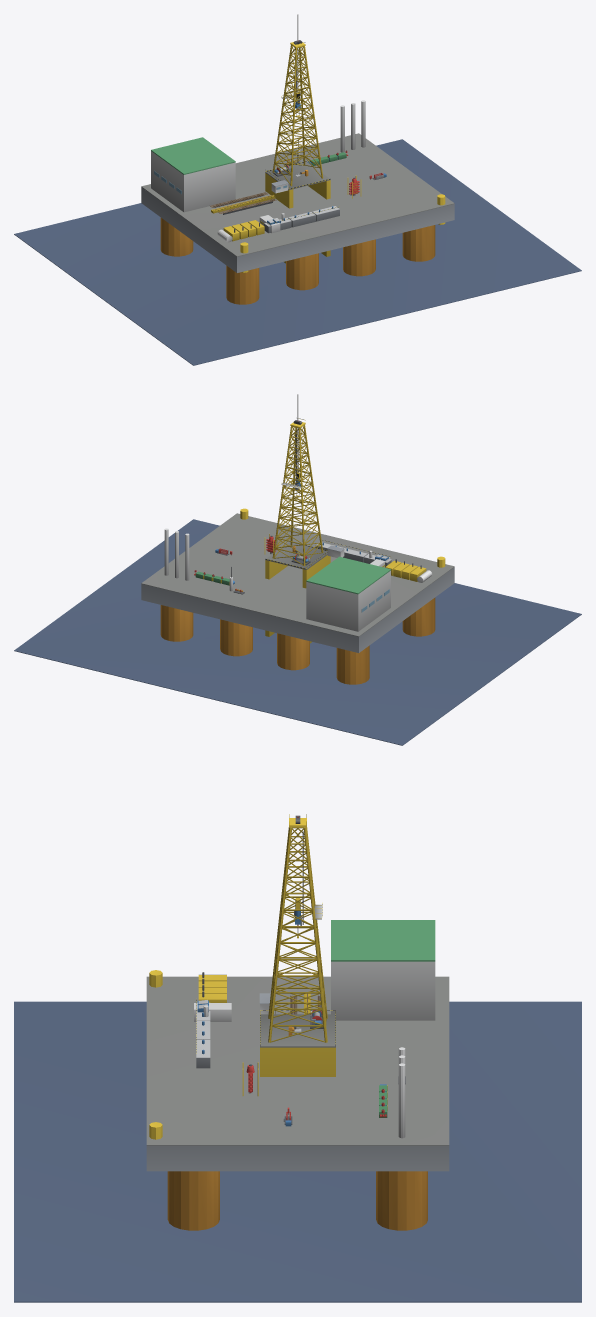
The model's file is semi_med.glb.
3 views of the same model, one above another, from view 1: azimuth 30°, elevation 25°; view 2: azimuth 150°, elevation 25°; view 3: azimuth 270°, elevation 25° (orthographic). The views are drawn at different scales.
Visible parts, largest first — view 1: hull__sea, hull__hull, mast__mast, mast__floor, mudtanks__tanks, mast__substructure, generators__gensets, pipehandling__racker; view 2: hull__sea, hull__hull, mast__mast, mast__floor, mast__substructure, generators__gensets, mudtanks__tanks; view 3: hull__sea, hull__hull, mast__mast, mast__substructure, mast__floor, mudtanks__tanks, generators__gensets.
Boxes of the visible parts, box(x1,y1,x2,y2) form: hull__sea: box(14, 139, 581, 365); hull__hull: box(141, 100, 454, 304); mast__mast: box(272, 45, 323, 186); mast__floor: box(265, 161, 330, 189); mudtanks__tanks: box(264, 206, 339, 233); mast__substructure: box(265, 173, 330, 263); generators__gensets: box(223, 220, 264, 241); pipehandling__racker: box(210, 192, 276, 214); hull__sea: box(14, 519, 581, 745); hull__hull: box(141, 508, 454, 684); mast__mast: box(272, 425, 323, 566); mast__floor: box(265, 541, 327, 569); mast__substructure: box(265, 555, 330, 643); generators__gensets: box(385, 559, 426, 581); mudtanks__tanks: box(315, 540, 391, 567); hull__sea: box(14, 1001, 581, 1302); hull__hull: box(146, 920, 449, 1230); mast__mast: box(268, 827, 327, 1042); mast__substructure: box(260, 1047, 335, 1076); mast__floor: box(260, 1010, 335, 1047); mudtanks__tanks: box(196, 999, 210, 1068); generators__gensets: box(198, 972, 226, 1002).
Bounding box in the file's own units: 150 × 99.76 × 120.
